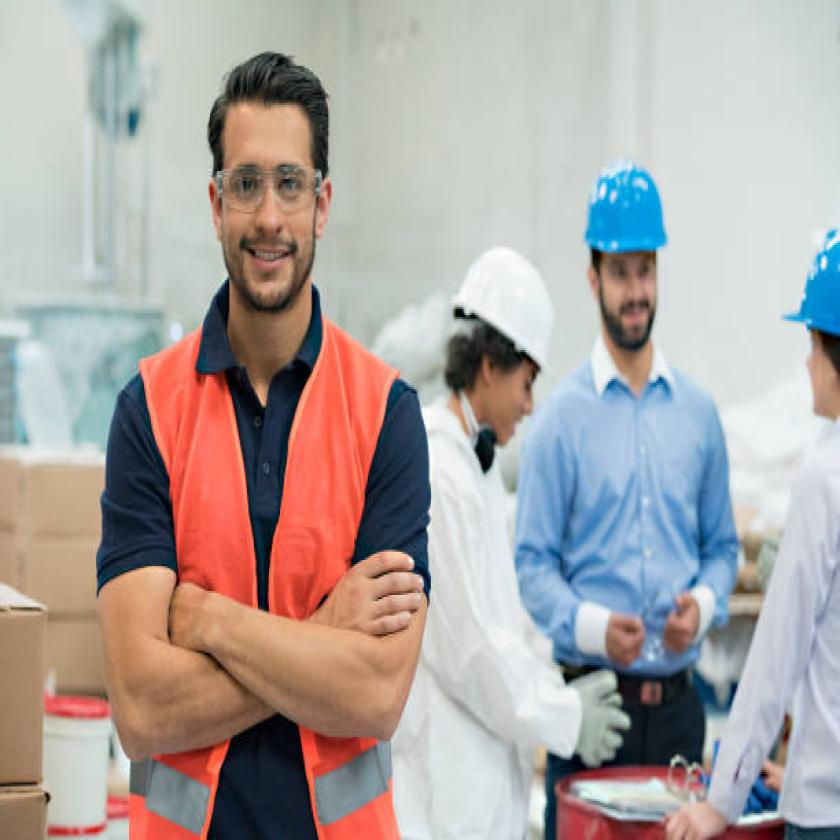Con_casco: (568, 142, 681, 378), (450, 236, 558, 440), (772, 196, 840, 434)
Sin_casco: (183, 23, 384, 337)
